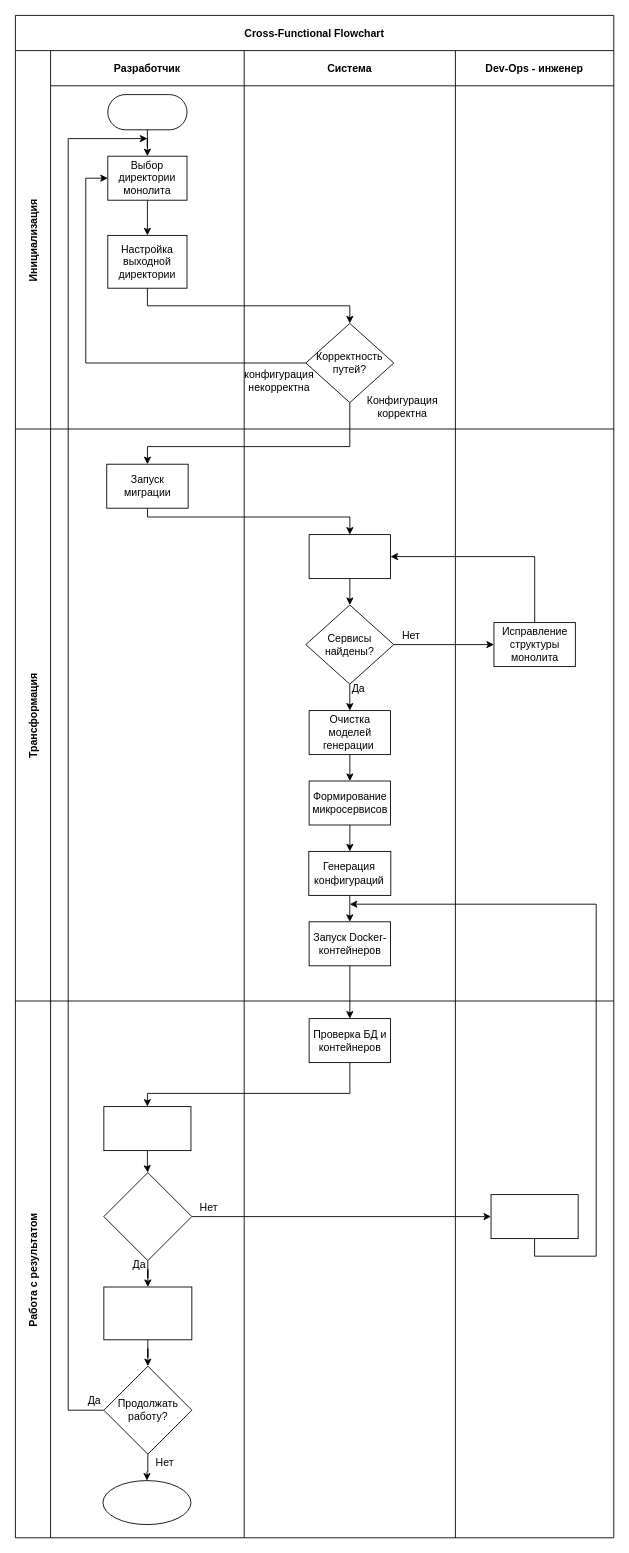
The diagram is 629 pixels wide and 1553 high, and some of its shapes have lost their labels. The box of each missing label's shape, as (x1, y1, x2, y2) in pixels:
Запуск системы: (107, 94, 187, 130)
Запуск успешен?: (103, 1172, 192, 1261)
Исправление ошибок среды Docker: (490, 1194, 578, 1239)
Мониторинг логов в терминале: (103, 1106, 191, 1151)
Окончание работы: (102, 1480, 191, 1525)
Тестирование API Gateway Nginx: (103, 1286, 192, 1340)
Эвристический анализ структуры: (308, 534, 391, 579)
